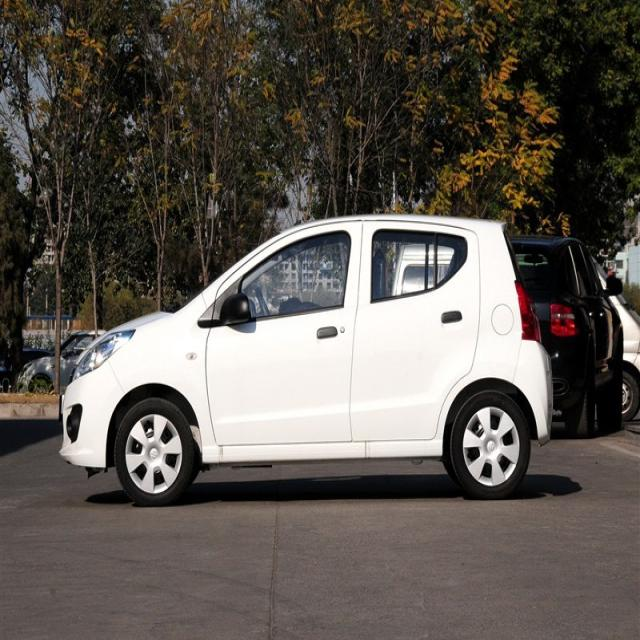back_left_side_light: (516, 278, 542, 348)
door: (349, 219, 486, 446)
front_bumper: (62, 356, 126, 471)
front_left_side_door: (204, 216, 366, 448)
front_left_side_light: (74, 326, 136, 381)
front_left_side_mirror: (220, 290, 253, 327)
wheel: (451, 390, 528, 498), (115, 397, 193, 499)
